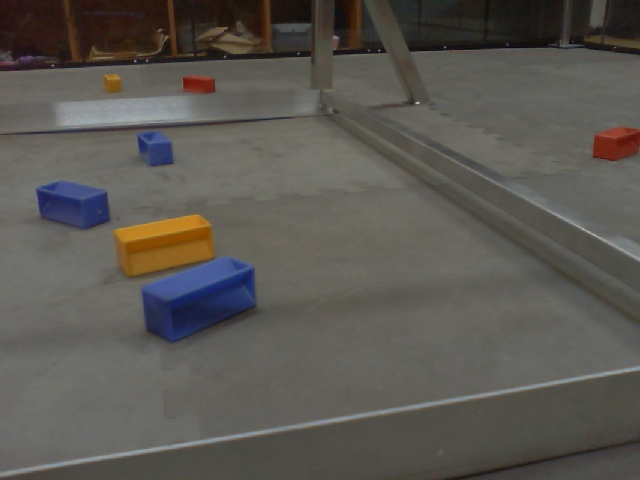BlueSample: (136, 257, 259, 344), (34, 180, 115, 229), (137, 128, 174, 168)
RedSample: (589, 124, 640, 164), (180, 72, 217, 95)
YellowSample: (110, 211, 219, 276), (101, 71, 124, 93)
